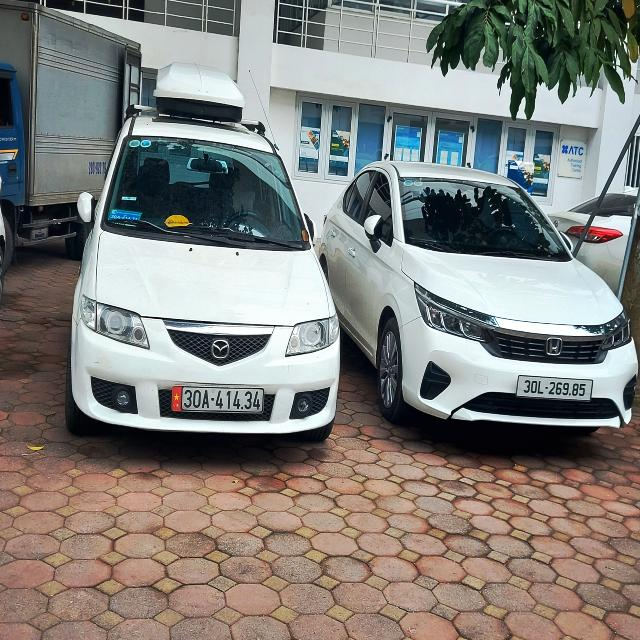license_plate: (173, 387, 266, 413), (518, 377, 594, 401)
